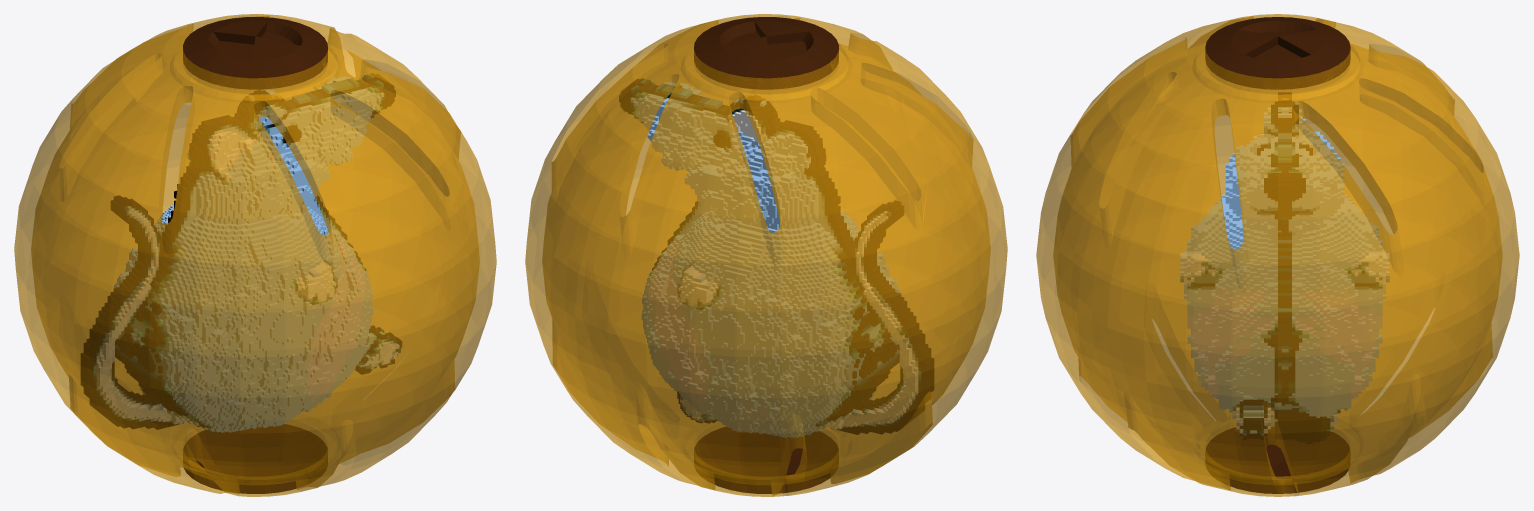
The model's file is legend_of_shadowtails_ratrick.glb.
3 views of the same model, side by side, from view 1: azimuth 30°, elevation 25°; view 2: azimuth 150°, elevation 25°; view 3: azimuth 270°, elevation 25° (orthographic).
Parts seen in each view (by area): view 1: Sphere, model_0, Sphere_door; view 2: Sphere, model_0, Sphere_door; view 3: Sphere, model_0, Sphere_door.
Boxes of the visible parts, bbox=[...] form: Sphere: bbox=[14, 14, 496, 496]; model_0: bbox=[81, 75, 401, 432]; Sphere_door: bbox=[183, 17, 327, 493]; Sphere: bbox=[525, 14, 1007, 496]; model_0: bbox=[619, 78, 933, 437]; Sphere_door: bbox=[694, 17, 838, 493]; Sphere: bbox=[1036, 14, 1519, 496]; model_0: bbox=[1180, 92, 1389, 443]; Sphere_door: bbox=[1205, 17, 1350, 493].
Bounding box in the file's own units: 13.87 × 13.87 × 13.87.
Materials: 3 (1 with a texture image).
